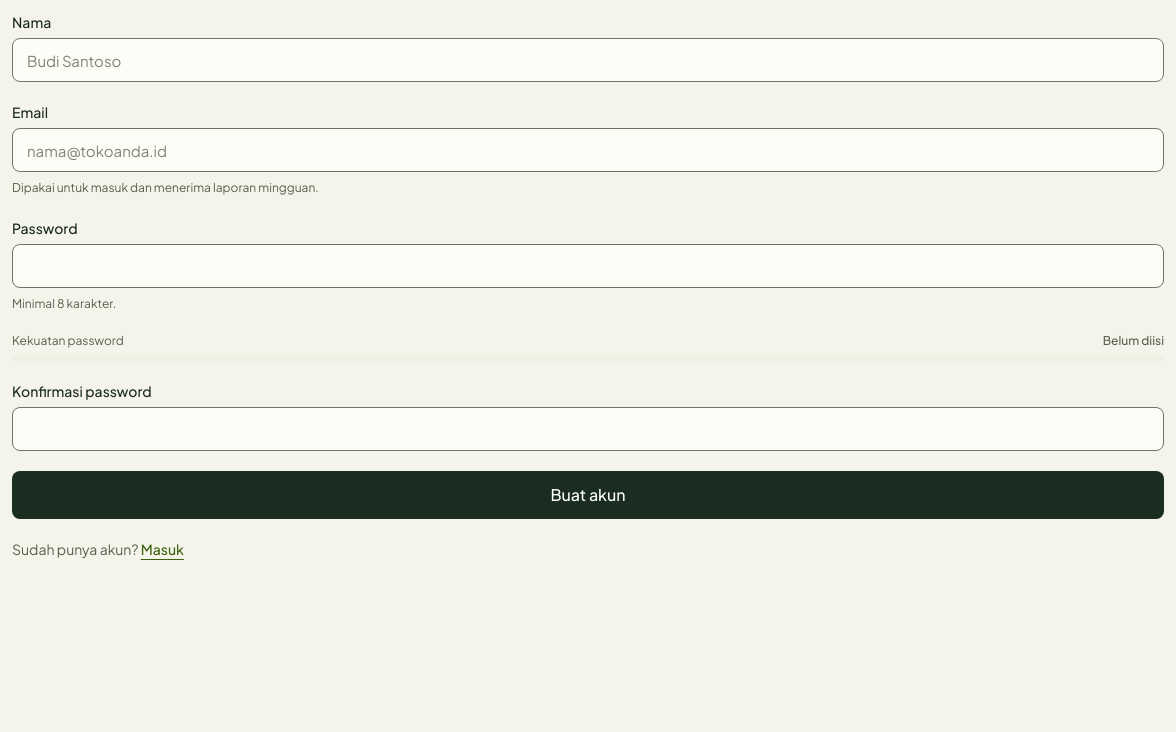
Scenario: RegisterForm: detail yang tidak bisa dipetakan tetap ditampilkan › RegisterForm punya aria-describedby seperti LoginForm
Click the button "Buat akun".
click(588, 495)  # box top-left (12, 471), bottom-right (1164, 519)
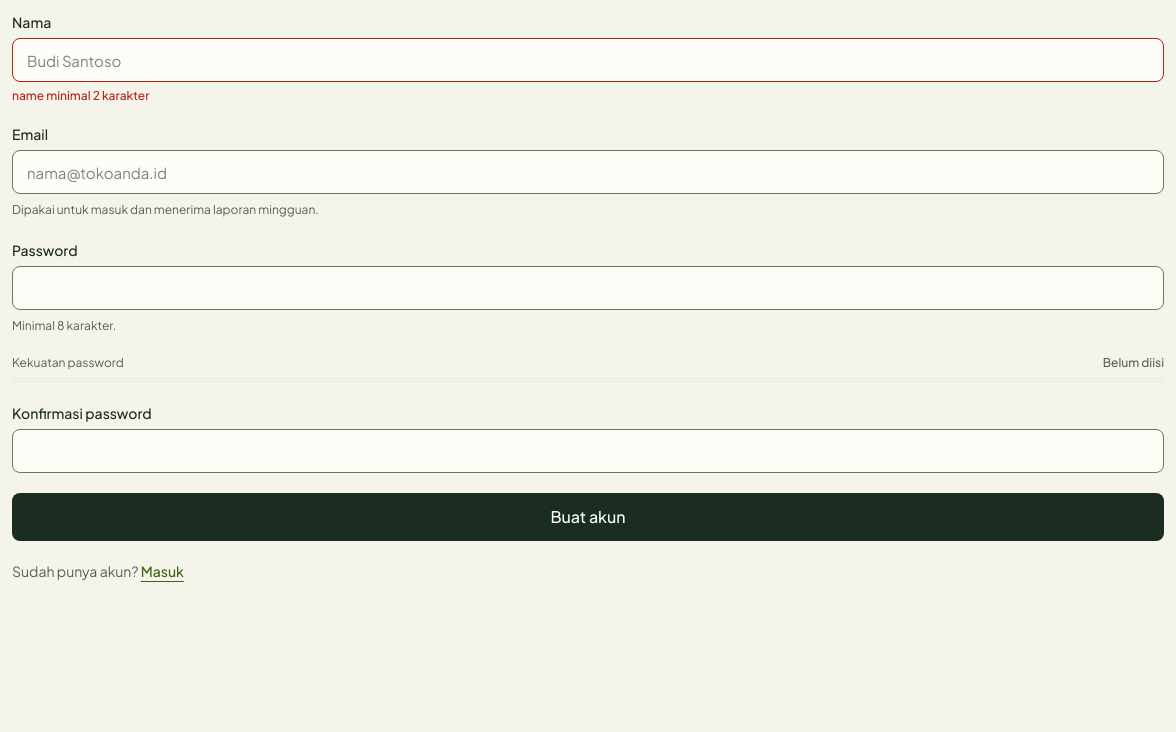
Expected: the message "name minimal 2 karakter" is shown, top-left (12, 88), bottom-right (149, 103)
